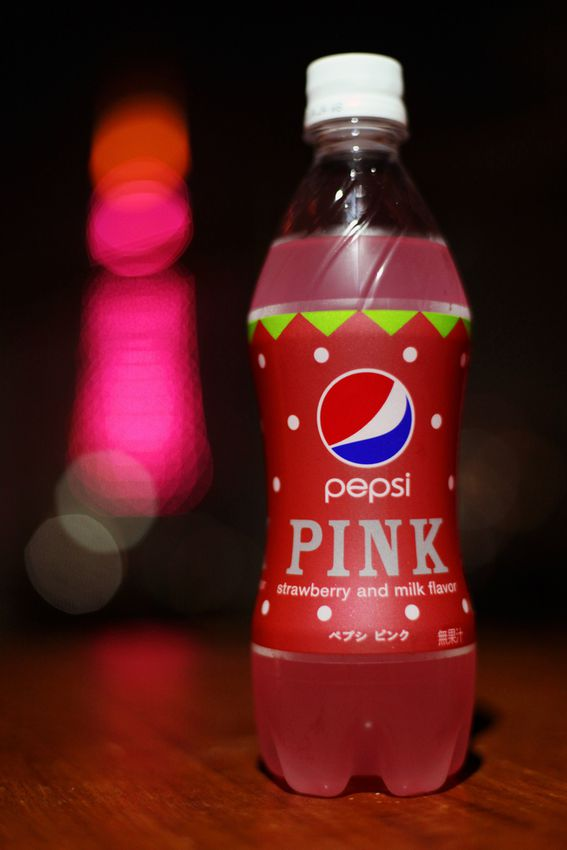pepsi: (310, 366, 413, 466), (314, 366, 413, 466)
